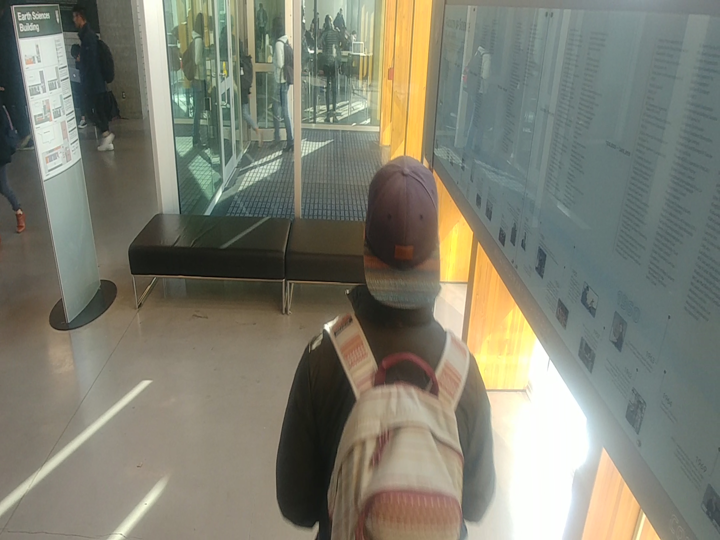face: (348, 150, 447, 318), (66, 0, 93, 37), (263, 12, 290, 45), (320, 12, 339, 35)
human: (267, 149, 503, 540), (68, 0, 128, 161), (264, 12, 294, 155), (315, 13, 351, 126)
